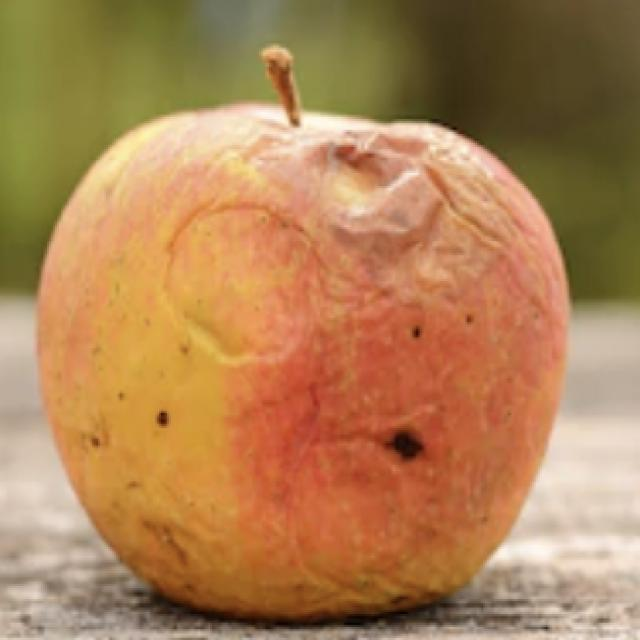Rotten: (40, 105, 593, 640)
